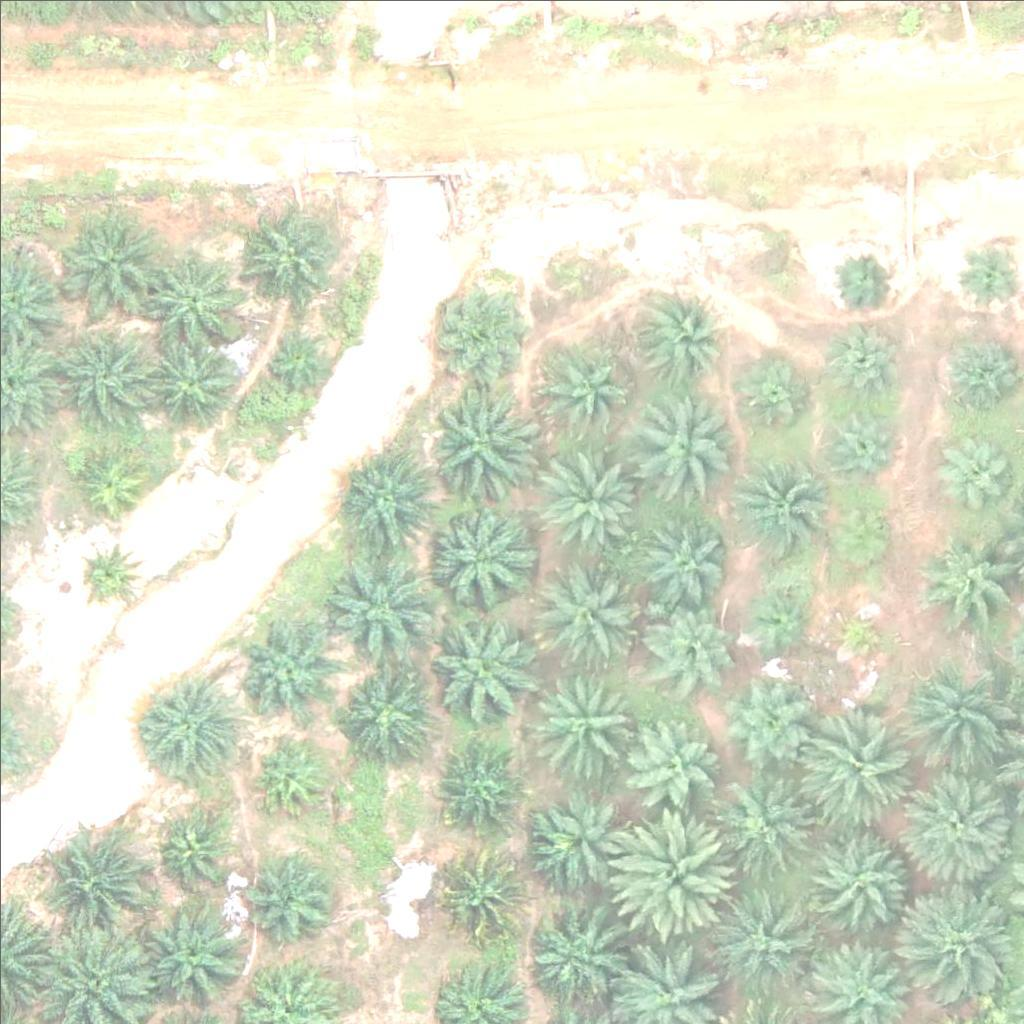Kelapa_Sawit: (604, 809, 729, 935), (54, 202, 167, 315), (325, 556, 438, 669), (424, 612, 537, 725), (420, 501, 533, 614), (708, 884, 821, 997), (801, 829, 914, 942), (904, 768, 1017, 881), (905, 665, 1017, 779), (422, 389, 534, 502), (804, 711, 916, 824), (907, 877, 1019, 990), (147, 905, 247, 1006), (56, 319, 156, 420), (141, 328, 241, 429), (339, 447, 439, 548), (239, 202, 339, 303), (431, 274, 531, 375), (520, 904, 620, 1005), (534, 667, 634, 768), (539, 555, 639, 656), (543, 447, 643, 548), (717, 775, 817, 876), (715, 674, 815, 775), (923, 526, 1023, 627), (724, 460, 824, 561), (49, 831, 149, 931), (139, 671, 239, 771), (146, 249, 246, 349), (233, 618, 333, 718), (535, 798, 635, 898), (632, 396, 732, 496), (251, 858, 339, 946), (340, 663, 428, 751), (440, 852, 528, 940), (647, 600, 735, 688), (822, 317, 910, 405), (645, 512, 732, 601), (438, 744, 525, 832), (538, 342, 625, 430), (636, 293, 723, 381), (630, 720, 717, 808), (813, 398, 900, 486), (942, 427, 1017, 503), (940, 339, 1015, 415), (741, 579, 816, 655), (252, 739, 327, 815), (822, 492, 897, 568), (734, 358, 809, 433), (157, 814, 232, 889), (73, 440, 148, 515), (258, 316, 333, 391), (76, 539, 139, 602), (831, 248, 893, 311), (828, 604, 890, 667)
